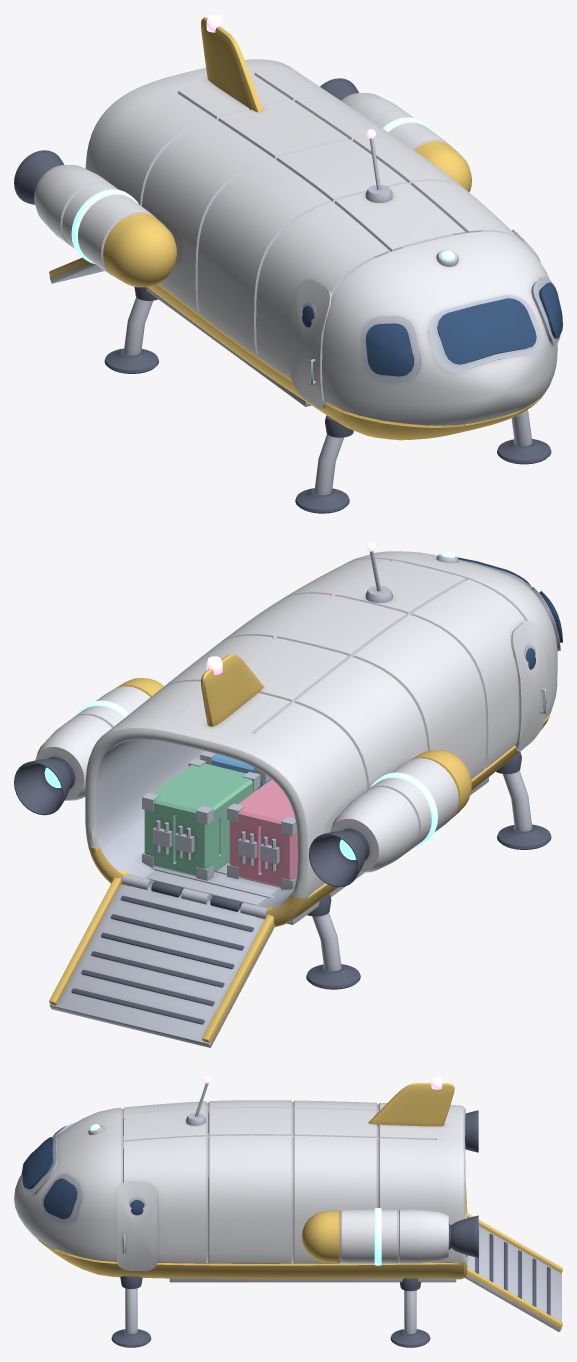
File: cargo-shuttle.glb
The picture shows the model from 3 angles, top to bottom: view 1: azimuth 30°, elevation 25°; view 2: azimuth 150°, elevation 25°; view 3: azimuth 270°, elevation 25°; orthographic projection. The views are drawn at different scales.
Visible parts, largest first — view 1: cargo-shuttle_body, cargo-shuttle_engine_glow, cargo-shuttle_ramp; view 2: cargo-shuttle_body, cargo-shuttle_ramp, cargo-shuttle_engine_glow; view 3: cargo-shuttle_body, cargo-shuttle_ramp, cargo-shuttle_engine_glow.
Part boxes in pixels (x1,y1,x2,y2): cargo-shuttle_body: (14, 17, 562, 513); cargo-shuttle_engine_glow: (71, 117, 433, 264); cargo-shuttle_ramp: (49, 257, 104, 283); cargo-shuttle_body: (14, 551, 562, 989); cargo-shuttle_ramp: (49, 878, 275, 1047); cargo-shuttle_engine_glow: (44, 700, 437, 859); cargo-shuttle_body: (14, 1083, 478, 1347); cargo-shuttle_ramp: (465, 1213, 562, 1331); cargo-shuttle_engine_glow: (374, 1102, 381, 1265).
Size of the model in its own units: 5.22 by 4.29 by 9.35.
6 materials, 2 textured.
